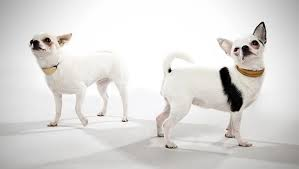chihuahua: (155, 19, 276, 149), (28, 29, 134, 129)
